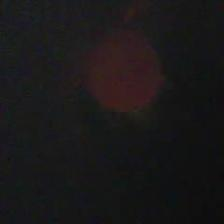fertile: (78, 26, 167, 116)
